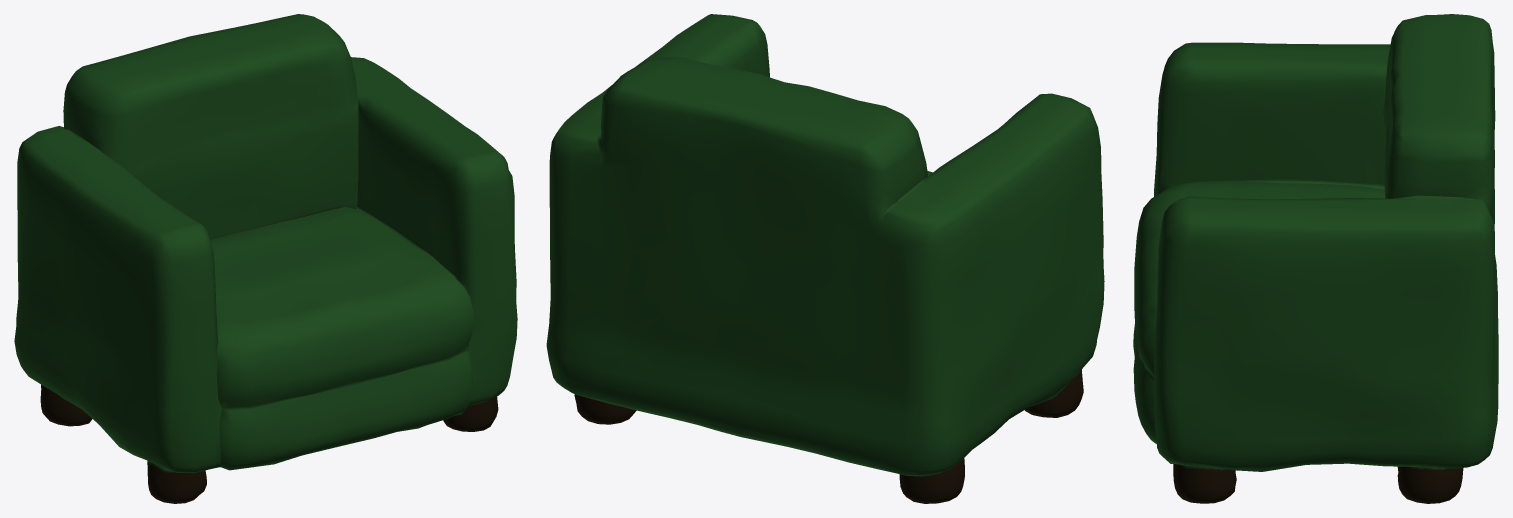
Rendered from chair11.glb.
The picture shows the model from 3 angles, left to right: view 1: azimuth 30°, elevation 25°; view 2: azimuth 150°, elevation 25°; view 3: azimuth 270°, elevation 25°; orthographic projection. The views are drawn at different scales.
Parts seen in each view (by area): view 1: node_id5; view 2: node_id5; view 3: node_id5.
Part boxes in pixels (left/top/right/bottom): node_id5: left=14, top=14, right=517, bottom=503; node_id5: left=546, top=14, right=1104, bottom=503; node_id5: left=1133, top=14, right=1498, bottom=503.
Size of the model in its own units: 0.512 by 0.4282 by 0.4084.
1 material, 1 textured.
